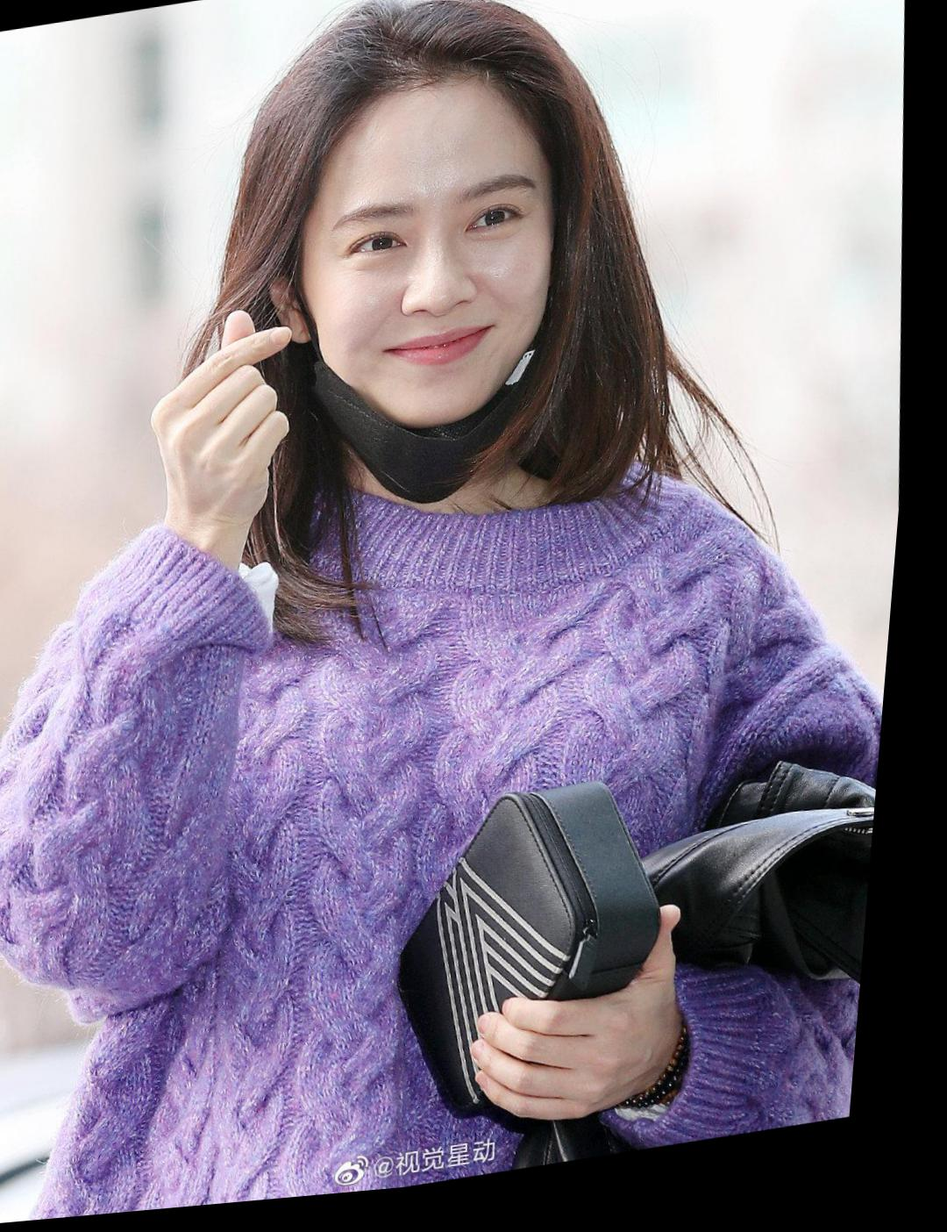WRONG: (285, 125, 577, 474)
